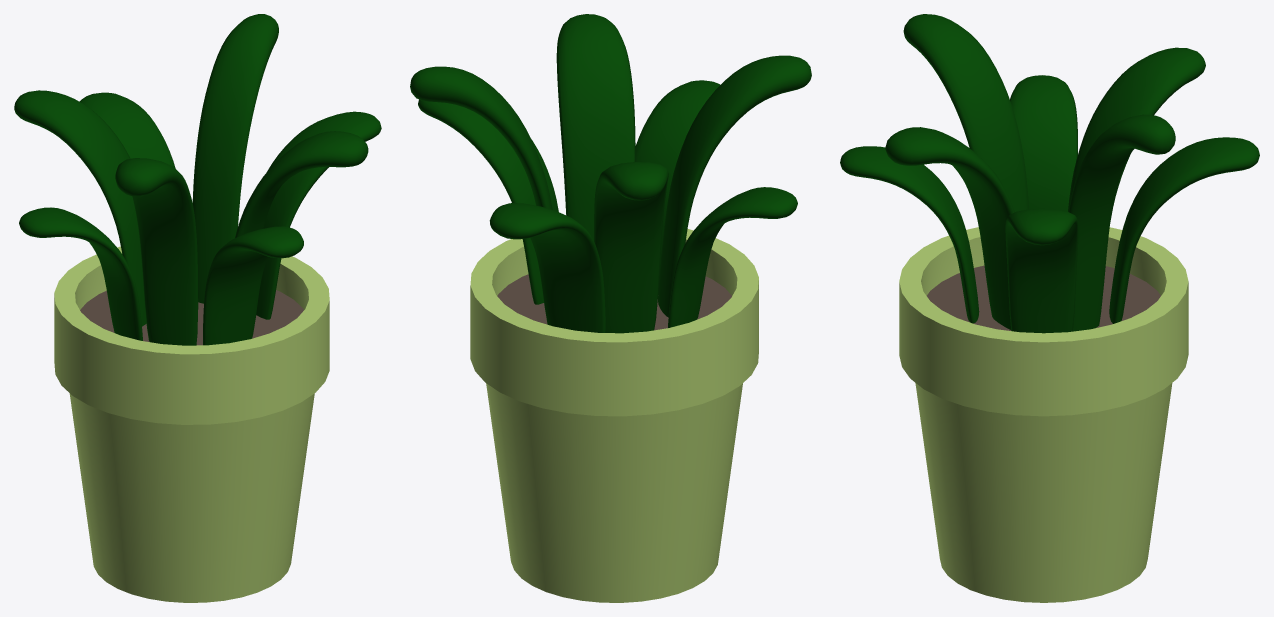
Rendered from Plante3_5.fbx.
3 views of the same model, side by side, from view 1: azimuth 30°, elevation 25°; view 2: azimuth 150°, elevation 25°; view 3: azimuth 270°, elevation 25° (orthographic). The views are drawn at different scales.
Parts seen in each view (by area): view 1: pCylinder728, pCube1923, pCube1927, pCube1921, pCube1926, pCube1928, pCube1925, pCube1922, pCube1924, pCylinder729; view 2: pCylinder728, pCube1922, pCube1921, pCube1927, pCube1924, pCube1928, pCube1923, pCube1925, pCube1926, pCylinder729; view 3: pCylinder728, pCube1927, pCube1923, pCube1925, pCube1922, pCube1928, pCube1924, pCube1921, pCube1926, pCylinder729.
Boxes of the visible parts, bbox=[...] form: pCylinder728: bbox=[54, 246, 329, 602]; pCube1923: bbox=[192, 14, 278, 303]; pCube1927: bbox=[115, 158, 198, 345]; pCube1921: bbox=[14, 90, 146, 326]; pCube1926: bbox=[203, 226, 303, 345]; pCube1928: bbox=[19, 207, 142, 340]; pCube1925: bbox=[256, 111, 381, 319]; pCube1922: bbox=[235, 131, 368, 237]; pCube1924: bbox=[79, 92, 175, 168]; pCylinder729: bbox=[80, 290, 303, 345]; pCylinder728: bbox=[470, 229, 758, 602]; pCube1922: bbox=[556, 14, 635, 240]; pCube1921: bbox=[594, 162, 668, 333]; pCube1927: bbox=[658, 55, 811, 317]; pCube1924: bbox=[489, 203, 605, 332]; pCube1928: bbox=[668, 187, 797, 327]; pCube1923: bbox=[410, 66, 552, 209]; pCube1925: bbox=[418, 99, 558, 304]; pCube1926: bbox=[635, 80, 720, 279]; pCylinder729: bbox=[497, 274, 731, 330]; pCylinder728: bbox=[899, 227, 1188, 602]; pCube1927: bbox=[903, 14, 1028, 211]; pCube1923: bbox=[1068, 114, 1175, 331]; pCube1925: bbox=[1005, 208, 1078, 333]; pCube1922: bbox=[885, 127, 1014, 329]; pCube1928: bbox=[1010, 75, 1077, 211]; pCube1924: bbox=[1109, 137, 1259, 323]; pCube1921: bbox=[1068, 47, 1205, 221]; pCube1926: bbox=[840, 146, 979, 323]; pCylinder729: bbox=[927, 265, 1160, 330].
Size of the model in its own units: 16.65 by 21.34 by 16.27.
